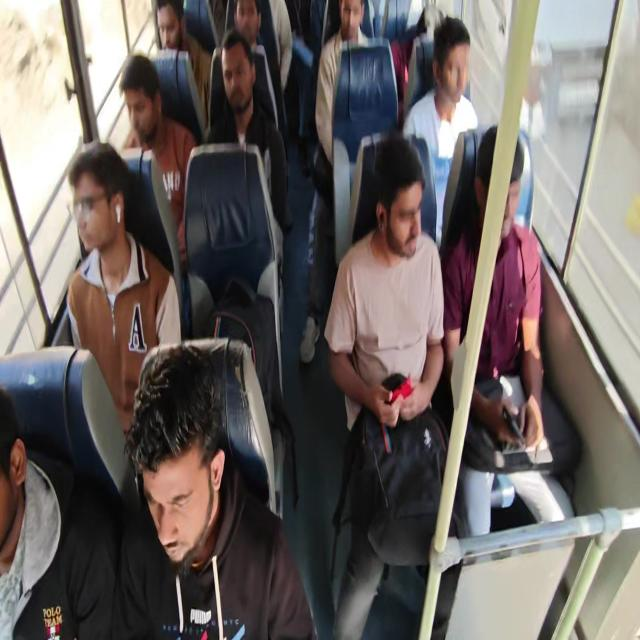person: (440, 124, 579, 637), (323, 133, 455, 638), (113, 341, 316, 638), (441, 124, 545, 456), (66, 142, 182, 438), (0, 385, 119, 639), (299, 0, 372, 364), (119, 54, 197, 330), (402, 15, 478, 246), (207, 28, 290, 233), (153, 0, 209, 127), (234, 0, 278, 130)
